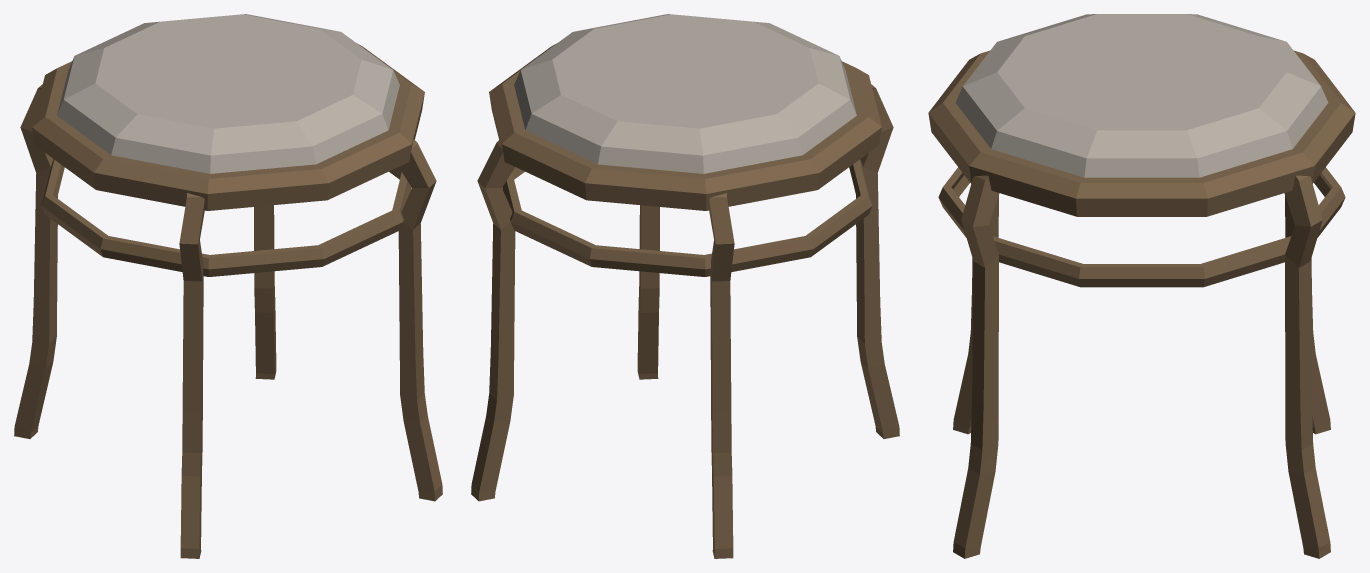
File: Stool.glb
3 views of the same model, side by side, from view 1: azimuth 30°, elevation 25°; view 2: azimuth 150°, elevation 25°; view 3: azimuth 270°, elevation 25° (orthographic). The views are drawn at different scales.
Parts seen in each view (by area): view 1: Stool; view 2: Stool; view 3: Stool.
Boxes of the visible parts, x1,y1,x2,y2 form: Stool: (14, 14, 442, 558); Stool: (471, 14, 899, 558); Stool: (928, 14, 1355, 558).
Size of the model in its own units: 0.5072 by 0.5768 by 0.5334.
